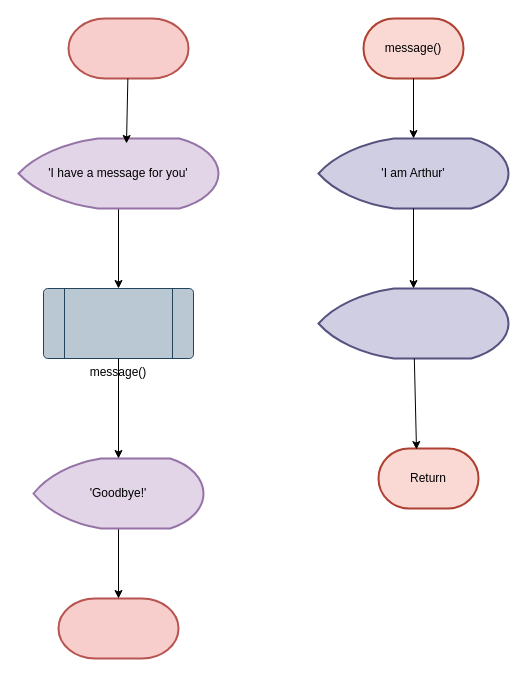
This 526x676 diagram has some shape labels left out. The shapes that lost their labels are listed below. From the top down, each one's centre as x and y in pixels, then its label:
(128,48): start
(413,323): 'King of the Brities'
(118,628): stop
